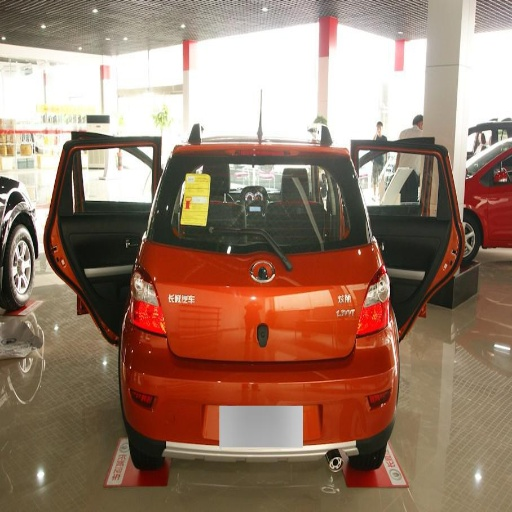back_bumper: (117, 328, 398, 477)
